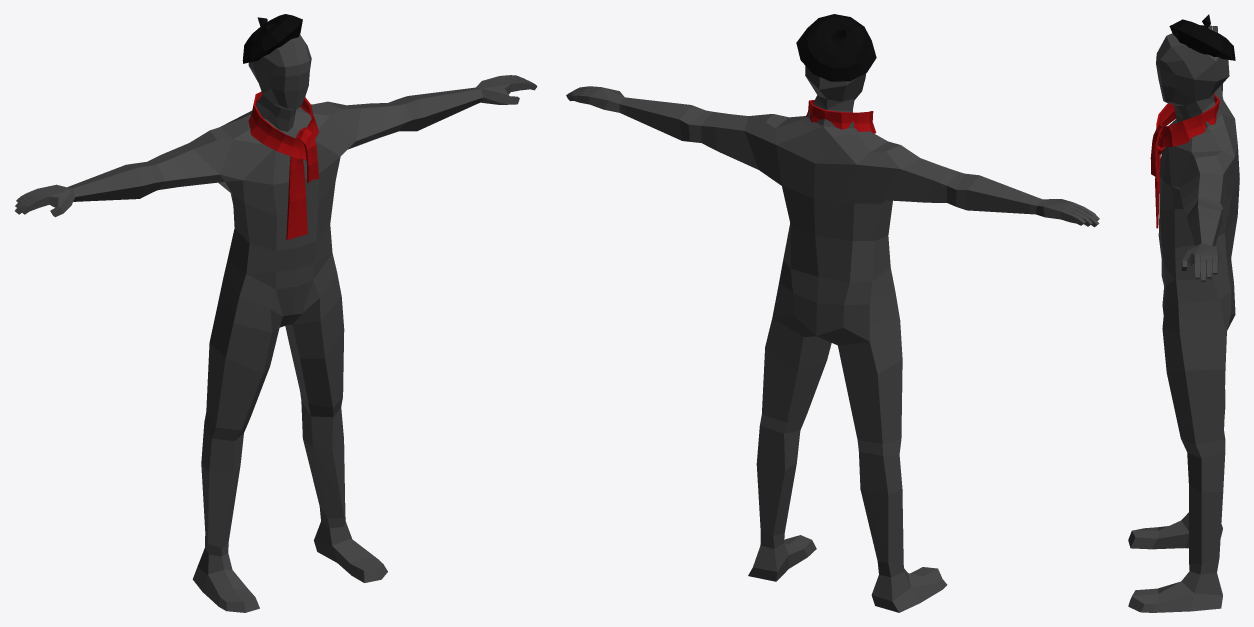
The model's file is Mime_Male.gltf.
The picture shows the model from 3 angles, left to right: view 1: azimuth 30°, elevation 25°; view 2: azimuth 150°, elevation 25°; view 3: azimuth 270°, elevation 25°; orthographic projection. The views are drawn at different scales.
Visible parts, largest first — view 1: Shorts Male, Torso Male Short Sleeves, Head 1 Male Bald, Красный шарф, Чёрный берет; view 2: Shorts Male, Torso Male Short Sleeves, Чёрный берет, Head 1 Male Bald, Красный шарф; view 3: Shorts Male, Torso Male Short Sleeves, Head 1 Male Bald, Красный шарф, Чёрный берет.
Boxes of the visible parts, x1=… form: Shorts Male: x1=192, y1=253, x2=387, y2=612; Torso Male Short Sleeves: x1=15, y1=75, x2=537, y2=273; Head 1 Male Bald: x1=248, y1=34, x2=311, y2=131; Красный шарф: x1=248, y1=91, x2=318, y2=239; Чёрный берет: x1=242, y1=14, x2=302, y2=63; Shorts Male: x1=748, y1=260, x2=947, y2=612; Torso Male Short Sleeves: x1=566, y1=86, x2=1099, y2=282; Чёрный берет: x1=796, y1=14, x2=876, y2=81; Head 1 Male Bald: x1=805, y1=66, x2=866, y2=128; Красный шарф: x1=806, y1=100, x2=876, y2=133; Shorts Male: x1=1128, y1=259, x2=1235, y2=612; Torso Male Short Sleeves: x1=1158, y1=25, x2=1239, y2=281; Head 1 Male Bald: x1=1156, y1=33, x2=1229, y2=127; Красный шарф: x1=1150, y1=94, x2=1219, y2=228; Чёрный берет: x1=1169, y1=14, x2=1235, y2=60.
Bounding box in the file's own units: 1.74 × 1.77 × 0.3241.
